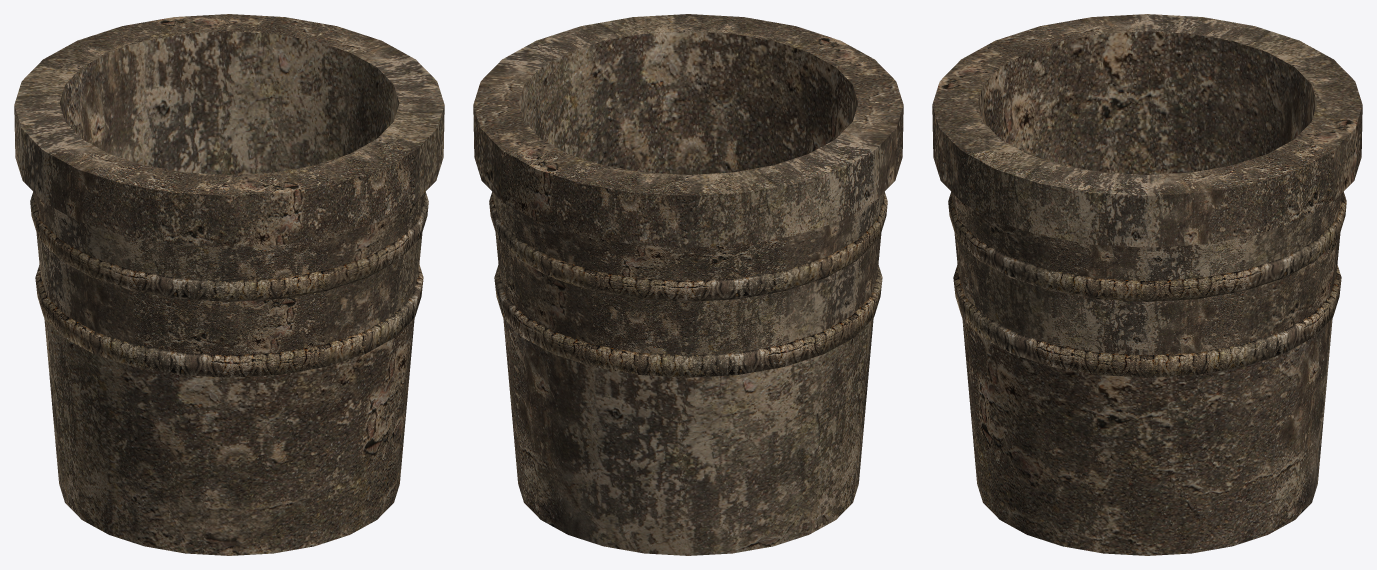
The model's file is materials_5_pot_2.fbx.
3 renders of one model, left to right at view 1: azimuth 30°, elevation 25°; view 2: azimuth 150°, elevation 25°; view 3: azimuth 270°, elevation 25°, orthographic.
Parts seen in each view (by area): view 1: materials_5_pot_2; view 2: materials_5_pot_2; view 3: materials_5_pot_2.
Part boxes in pixels (x1=…): materials_5_pot_2: x1=14, y1=14, x2=444, y2=555; materials_5_pot_2: x1=473, y1=14, x2=903, y2=555; materials_5_pot_2: x1=932, y1=14, x2=1362, y2=555.
Bounding box in the file's own units: 23.49 × 22.93 × 23.49.
